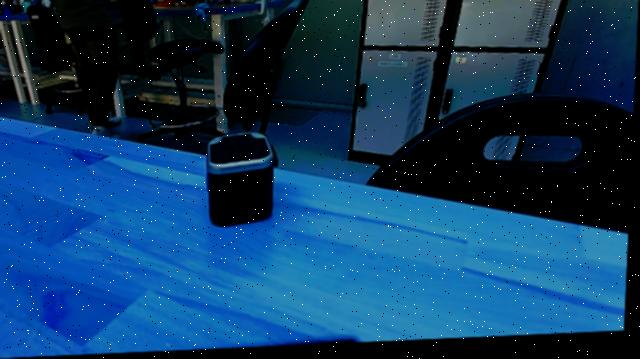adapter: (193, 124, 286, 237)
